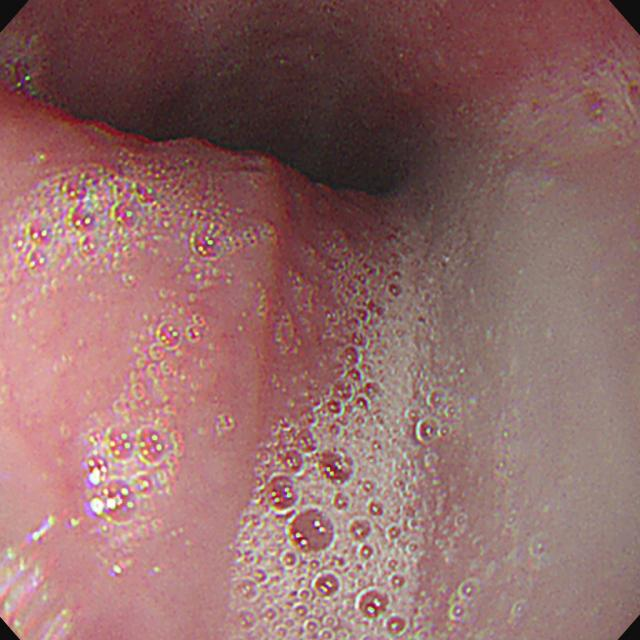T: (233, 222, 448, 640), (10, 164, 162, 272), (85, 414, 182, 529)
